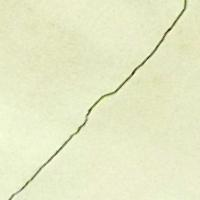crack: (2, 1, 191, 199)
